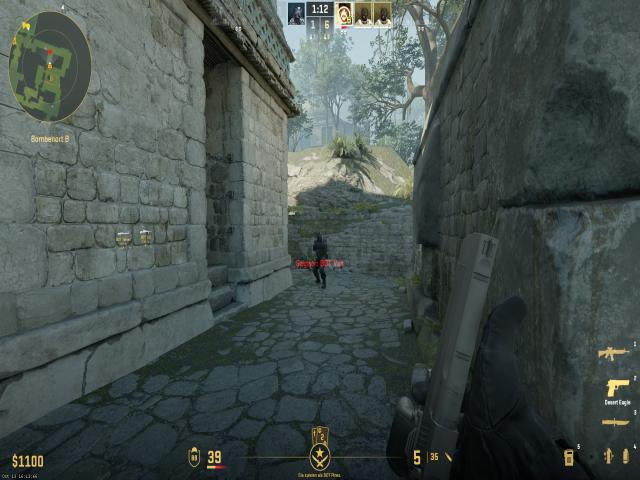CT: (310, 223, 333, 290)
CT-Head: (314, 229, 324, 243)
